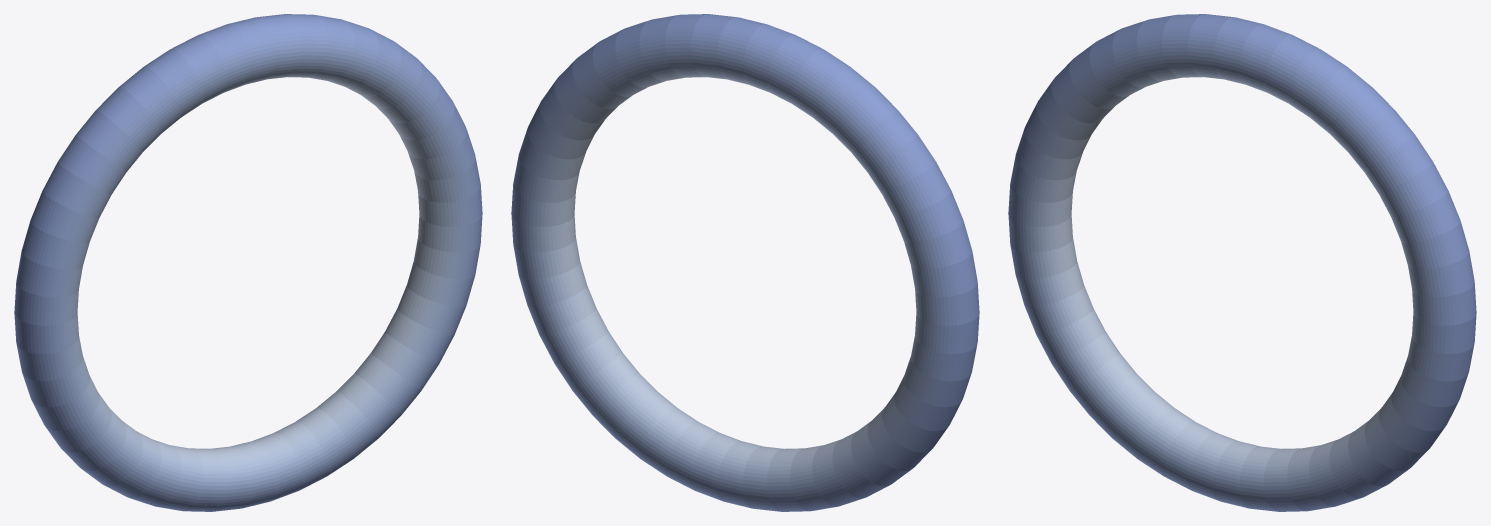
The picture shows the model from 3 angles, left to right: view 1: azimuth 30°, elevation 25°; view 2: azimuth 150°, elevation 25°; view 3: azimuth 330°, elevation 25°; orthographic projection.
Parts seen in each view (by area): view 1: world; view 2: world; view 3: world.
Boxes of the visible parts, x1,y1,x2,y2 form: world: [14, 14, 482, 511]; world: [511, 14, 979, 511]; world: [1008, 14, 1476, 511].
Size of the model in its own units: 28 by 27.94 by 3.33.
